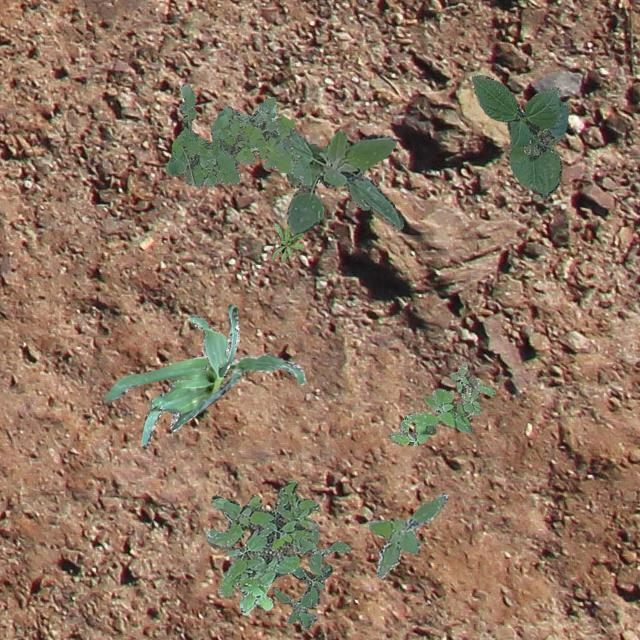crop: (140, 304, 238, 444), (103, 347, 304, 413), (471, 74, 569, 198)
weed: (205, 479, 318, 614), (164, 84, 310, 186), (284, 128, 402, 234), (386, 362, 494, 444), (368, 492, 447, 578), (272, 564, 332, 628), (294, 528, 350, 576), (270, 222, 302, 260)
